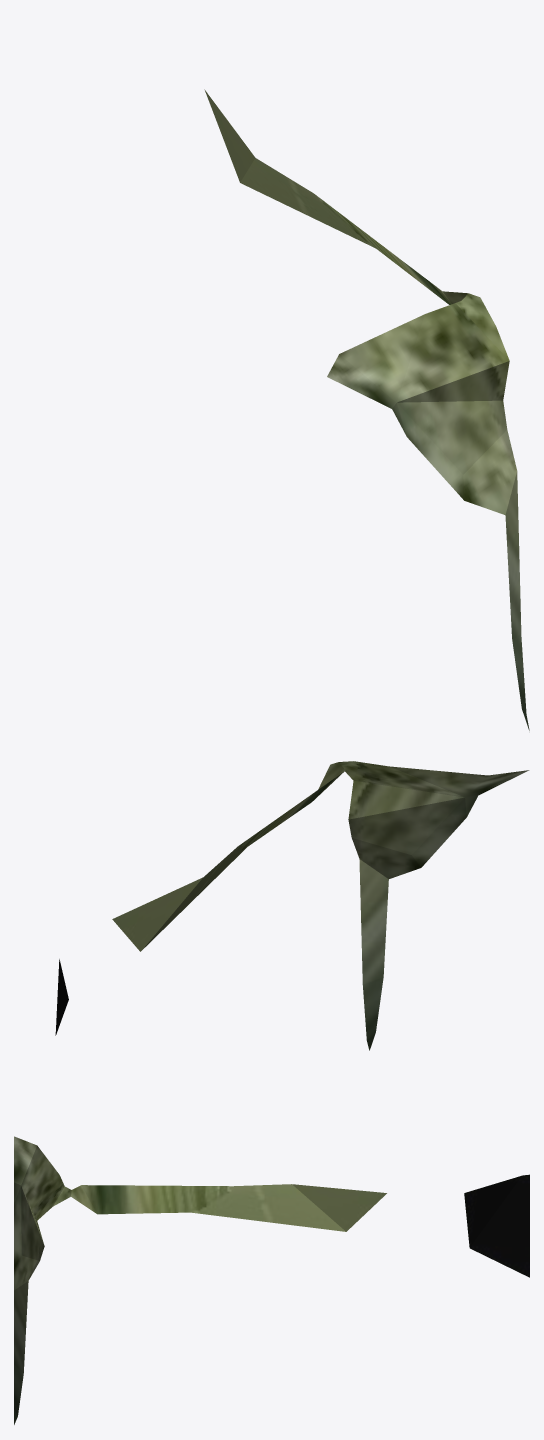
3 views of the same model, one above another, from view 1: azimuth 30°, elevation 25°; view 2: azimuth 150°, elevation 25°; view 3: azimuth 270°, elevation 25° (orthographic). The views are drawn at different scales.
Bounding box in the file's own units: 0.7685 × 1.47 × 2.95.
1 material, 1 textured.
